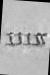N24: (2, 0, 48, 74)
